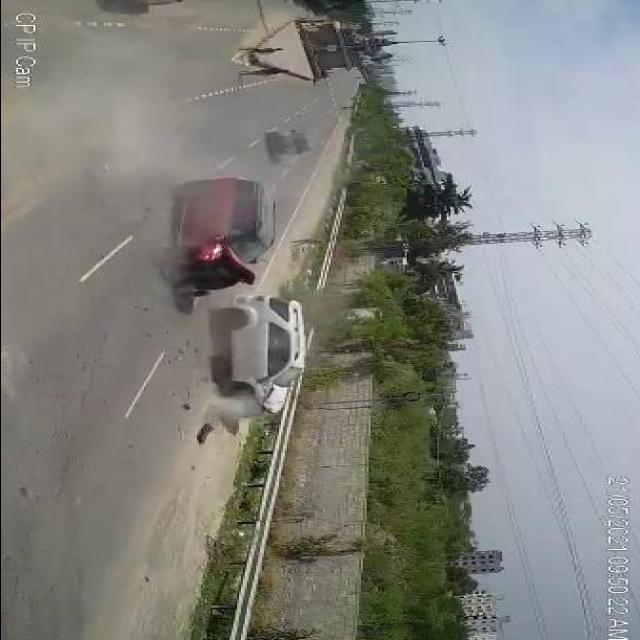accident: (144, 164, 329, 450)
